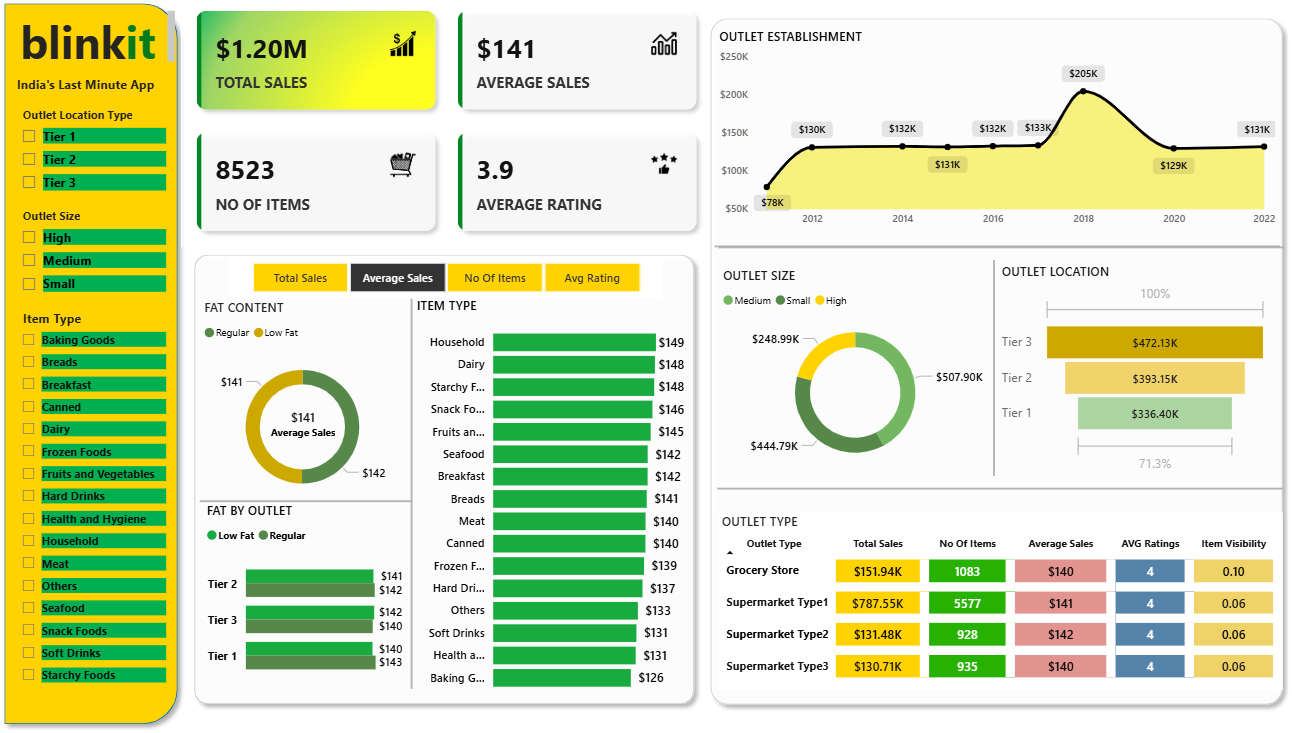

Layout of this report page (visuals, bound fields, positions):
{"tool":"powerbi","page":{"name":"Page 1","canvas":[1400,800],"ordinal":0},"visuals":[{"type":"shape","box":[10.7,0,203.8,790.9],"z":0},{"type":"textbox","box":[32.5,11.8,175.6,69.4],"z":1000},{"type":"textbox","box":[28,81.2,169.7,33.9],"z":2000},{"type":"cardVisual","fields":{"Data":["BlinkIT Grocery Data.Total Sales","BlinkIT Grocery Data.Average Sales","BlinkIT Grocery Data.No Of Items","BlinkIT Grocery Data.Average Ratings"]},"box":[208.6,0,570.3,270.2],"z":3000},{"type":"shape","box":[215,270,554,500],"z":4000},{"type":"donutChart","title":"FAT CONTENT","fields":{"Y":["BlinkIT Grocery Data.Average Sales"],"Category":["BlinkIT Grocery Data.Item Fat Content"]},"box":[229.6,325.7,220.6,229.6],"z":5000},{"type":"slicer","fields":{"Values":["Metrics.Metrics"]},"box":[259.6,280.7,465.3,45],"z":6000},{"type":"cardVisual","fields":{"Data":["BlinkIT Grocery Data.Average Sales"]},"box":[285.2,426.2,109.6,67.5],"z":7000},{"type":"clusteredBarChart","title":" FAT BY OUTLET","fields":{"Y":["BlinkIT Grocery Data.Average Sales"],"Category":["BlinkIT Grocery Data.Outlet Location Type"],"Series":["BlinkIT Grocery Data.Item Fat Content"]},"box":[231.7,543,219.9,202.2],"z":8000},{"type":"shape","box":[229.6,531.3,228.1,24],"z":9000},{"type":"shape","box":[450.3,325.7,12,418.7],"z":10000},{"type":"barChart","title":"ITEM TYPE","fields":{"Y":["BlinkIT Grocery Data.Average Sales"],"Category":["BlinkIT Grocery Data.Item Type"]},"box":[457.8,322.7,297.2,433.7],"z":11000},{"type":"shape","box":[768.8,16.2,631.5,754],"z":12000},{"type":"lineChart","title":"OUTLET ESTABLISHMENT","fields":{"Y":["BlinkIT Grocery Data.Total Sales"],"Category":["BlinkIT Grocery Data.Outlet Establishment Year"]},"box":[781.9,34.5,606.3,222.1],"z":13000},{"type":"shape","box":[785,256.7,606.5,26.6],"z":14000},{"type":"donutChart","title":"OUTLET SIZE","fields":{"Y":["BlinkIT Grocery Data.Total Sales"],"Category":["BlinkIT Grocery Data.Outlet Size"]},"box":[785,290.7,293.6,225.8],"z":15000},{"type":"shape","box":[1075.7,284.8,11.8,231.7],"z":16000},{"type":"funnel","title":"OUTLET LOCATION","fields":{"Y":["BlinkIT Grocery Data.Total Sales"],"Category":["BlinkIT Grocery Data.Outlet Location Type"]},"box":[1084.5,286.3,295.1,230.2],"z":17000},{"type":"shape","box":[783.5,516.4,606.5,26.6],"z":18000},{"type":"pivotTable","title":"OUTLET TYPE","fields":{"Rows":["BlinkIT Grocery Data.Outlet Type"],"Values":["BlinkIT Grocery Data.Total Sales","BlinkIT Grocery Data.No Of Items","BlinkIT Grocery Data.Average Sales","BlinkIT Grocery Data.AVG Ratings","Avg(BlinkIT Grocery Data.Item Visibility)"]},"box":[783.5,554.8,606.5,190.3],"z":19000},{"type":"actionButton","box":[0,0,100,40],"z":20000},{"type":"slicer","fields":{"Values":["BlinkIT Grocery Data.Outlet Location Type"]},"box":[26.8,115.3,171.6,108.6],"z":21000},{"type":"shape","box":[781.9,256.6,606.3,27],"z":22000},{"type":"slicer","fields":{"Values":["BlinkIT Grocery Data.Outlet Size"]},"box":[26.8,223.9,171.6,108.6],"z":23000},{"type":"slicer","fields":{"Values":["BlinkIT Grocery Data.Item Type"]},"box":[26.8,332.4,171.6,424.9],"z":24000},{"type":"qnaVisual","box":[215,650,554,150],"z":24001}]}

Visuals, with their boxes in screenshot pixels (x1, y1, x2, y2), scaled from the page's 1400x800 canvas onto the 1292x733 screenshot:
shape: [x1=10, y1=0, x2=198, y2=725]
textbox: [x1=30, y1=11, x2=192, y2=74]
textbox: [x1=26, y1=74, x2=182, y2=105]
cardVisual - BlinkIT Grocery Data.Total Sales x BlinkIT Grocery Data.Average Sales: [x1=193, y1=0, x2=719, y2=248]
shape: [x1=198, y1=247, x2=710, y2=706]
"FAT CONTENT" donutChart: [x1=212, y1=298, x2=415, y2=509]
slicer - Metrics.Metrics: [x1=240, y1=257, x2=669, y2=298]
cardVisual - BlinkIT Grocery Data.Average Sales: [x1=263, y1=391, x2=364, y2=452]
" FAT BY OUTLET" clusteredBarChart: [x1=214, y1=498, x2=417, y2=683]
shape: [x1=212, y1=487, x2=422, y2=509]
shape: [x1=416, y1=298, x2=427, y2=682]
"ITEM TYPE" barChart: [x1=422, y1=296, x2=697, y2=693]
shape: [x1=709, y1=15, x2=1291, y2=706]
"OUTLET ESTABLISHMENT" lineChart: [x1=722, y1=32, x2=1281, y2=235]
shape: [x1=724, y1=235, x2=1284, y2=260]
"OUTLET SIZE" donutChart: [x1=724, y1=266, x2=995, y2=473]
shape: [x1=993, y1=261, x2=1004, y2=473]
"OUTLET LOCATION" funnel: [x1=1001, y1=262, x2=1273, y2=473]
shape: [x1=723, y1=473, x2=1283, y2=498]
"OUTLET TYPE" pivotTable: [x1=723, y1=508, x2=1283, y2=683]
actionButton: [x1=0, y1=0, x2=92, y2=37]
slicer - BlinkIT Grocery Data.Outlet Location Type: [x1=25, y1=106, x2=183, y2=205]
shape: [x1=722, y1=235, x2=1281, y2=260]
slicer - BlinkIT Grocery Data.Outlet Size: [x1=25, y1=205, x2=183, y2=305]
slicer - BlinkIT Grocery Data.Item Type: [x1=25, y1=305, x2=183, y2=694]
qnaVisual: [x1=198, y1=596, x2=710, y2=732]
